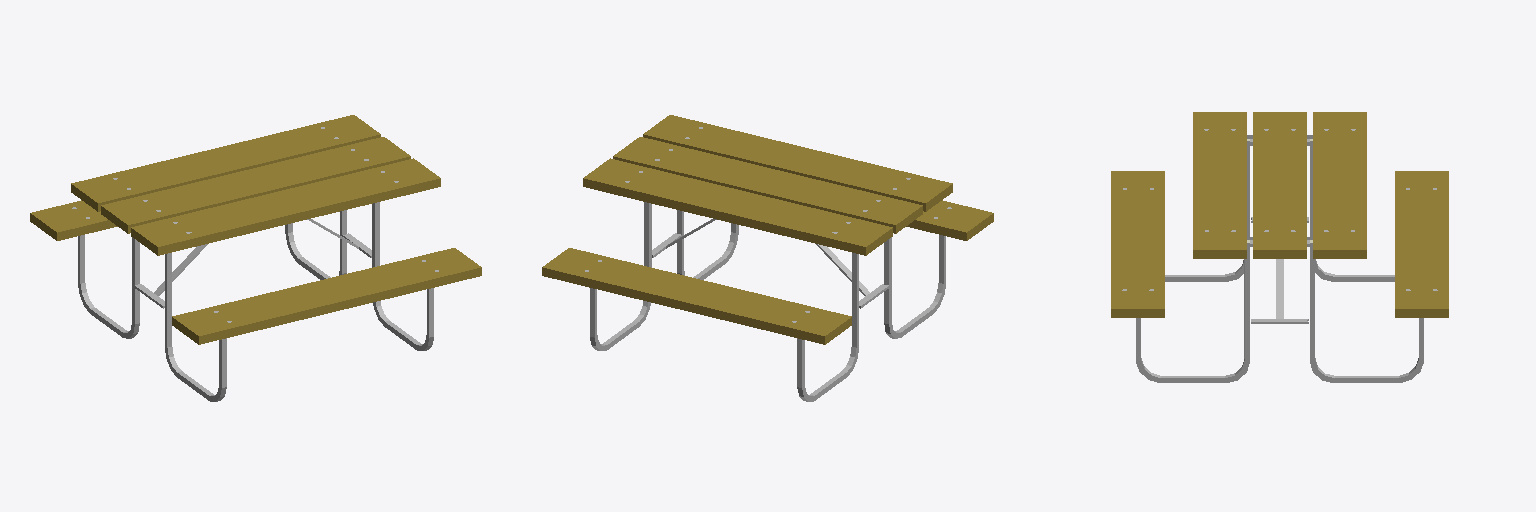
Rendered from Table_Picnic_Standard.obj.
The picture shows the model from 3 angles: view 1: azimuth 30°, elevation 25°; view 2: azimuth 150°, elevation 25°; view 3: azimuth 270°, elevation 25°; orthographic projection.
Parts seen in each view (by area): view 1: Mesh22 plank1 Model, Mesh28 plank4 Model, Mesh32 plank5 Model, Mesh25 plank3 Model, Mesh23 plank2 Model, Mesh27 u_bar3 Model, Mesh21 u_bar1 Model, Mesh34 u_bar4 Model, Mesh26 u_bar2 Model; view 2: Mesh32 plank5 Model, Mesh23 plank2 Model, Mesh22 plank1 Model, Mesh25 plank3 Model, Mesh28 plank4 Model, Mesh21 u_bar1 Model, Mesh27 u_bar3 Model, Mesh26 u_bar2 Model, Mesh34 u_bar4 Model; view 3: Mesh22 plank1 Model, Mesh32 plank5 Model, Mesh23 plank2 Model, Mesh25 plank3 Model, Mesh28 plank4 Model, Mesh34 u_bar4 Model, Mesh26 u_bar2 Model, Mesh21 u_bar1 Model, Mesh27 u_bar3 Model.
Boxes of the visible parts, <box> form: Mesh22 plank1 Model: <box>131,158,440,255</box>; Mesh28 plank4 Model: <box>172,248,481,344</box>; Mesh32 plank5 Model: <box>71,115,380,211</box>; Mesh25 plank3 Model: <box>101,137,410,233</box>; Mesh23 plank2 Model: <box>30,200,117,240</box>; Mesh27 u_bar3 Model: <box>165,253,226,401</box>; Mesh21 u_bar1 Model: <box>78,235,139,338</box>; Mesh34 u_bar4 Model: <box>372,202,433,350</box>; Mesh26 u_bar2 Model: <box>285,210,346,279</box>; Mesh32 plank5 Model: <box>583,158,892,255</box>; Mesh23 plank2 Model: <box>542,248,851,344</box>; Mesh22 plank1 Model: <box>643,115,952,211</box>; Mesh25 plank3 Model: <box>613,137,922,233</box>; Mesh28 plank4 Model: <box>906,200,993,240</box>; Mesh21 u_bar1 Model: <box>797,253,858,401</box>; Mesh27 u_bar3 Model: <box>884,235,945,338</box>; Mesh26 u_bar2 Model: <box>590,202,651,350</box>; Mesh34 u_bar4 Model: <box>677,210,738,279</box>; Mesh22 plank1 Model: <box>1193,112,1246,258</box>; Mesh32 plank5 Model: <box>1313,112,1366,258</box>; Mesh23 plank2 Model: <box>1395,171,1448,317</box>; Mesh25 plank3 Model: <box>1253,112,1306,258</box>; Mesh28 plank4 Model: <box>1111,171,1164,317</box>; Mesh34 u_bar4 Model: <box>1136,240,1249,382</box>; Mesh26 u_bar2 Model: <box>1310,240,1423,382</box>; Mesh21 u_bar1 Model: <box>1310,139,1394,281</box>; Mesh27 u_bar3 Model: <box>1165,139,1249,281</box>.
Size of the model in its own units: 60 by 30.63 by 61.95.